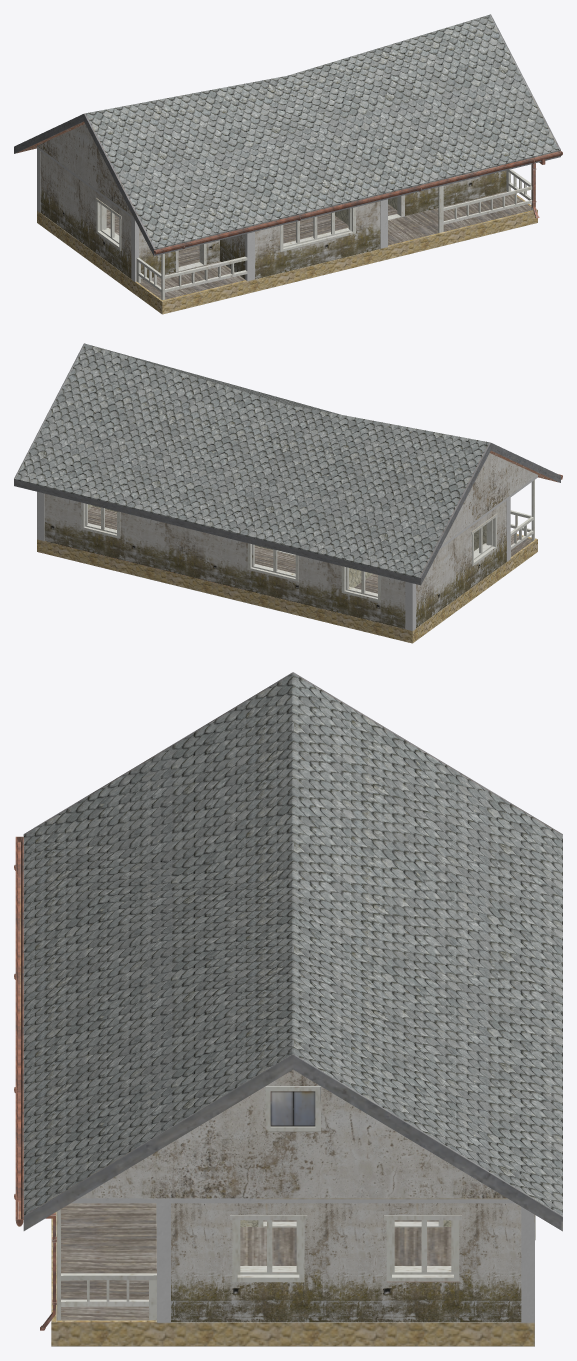
The model's file is buildingV2_1.obj.
3 renders of one model, top to bottom at view 1: azimuth 30°, elevation 25°; view 2: azimuth 150°, elevation 25°; view 3: azimuth 270°, elevation 25°, orthographic. The views are drawn at different scales.
Visible parts, largest first — view 1: House_Плоскость; view 2: House_Плоскость; view 3: House_Плоскость.
Part boxes in pixels (x1,y1,x2,y2): House_Плоскость: (14,14,562,314); House_Плоскость: (14,343,562,643); House_Плоскость: (14,672,562,1346).
Size of the model in its own units: 13.06 by 4.86 by 7.91.
4 materials, 4 textured.
